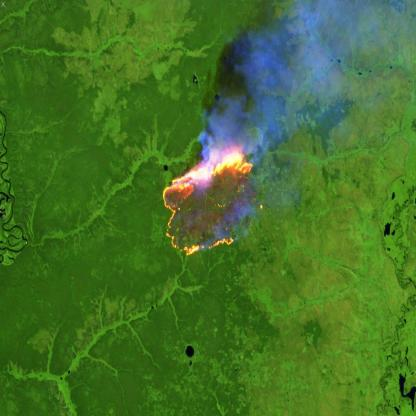fire: (158, 140, 257, 259)
